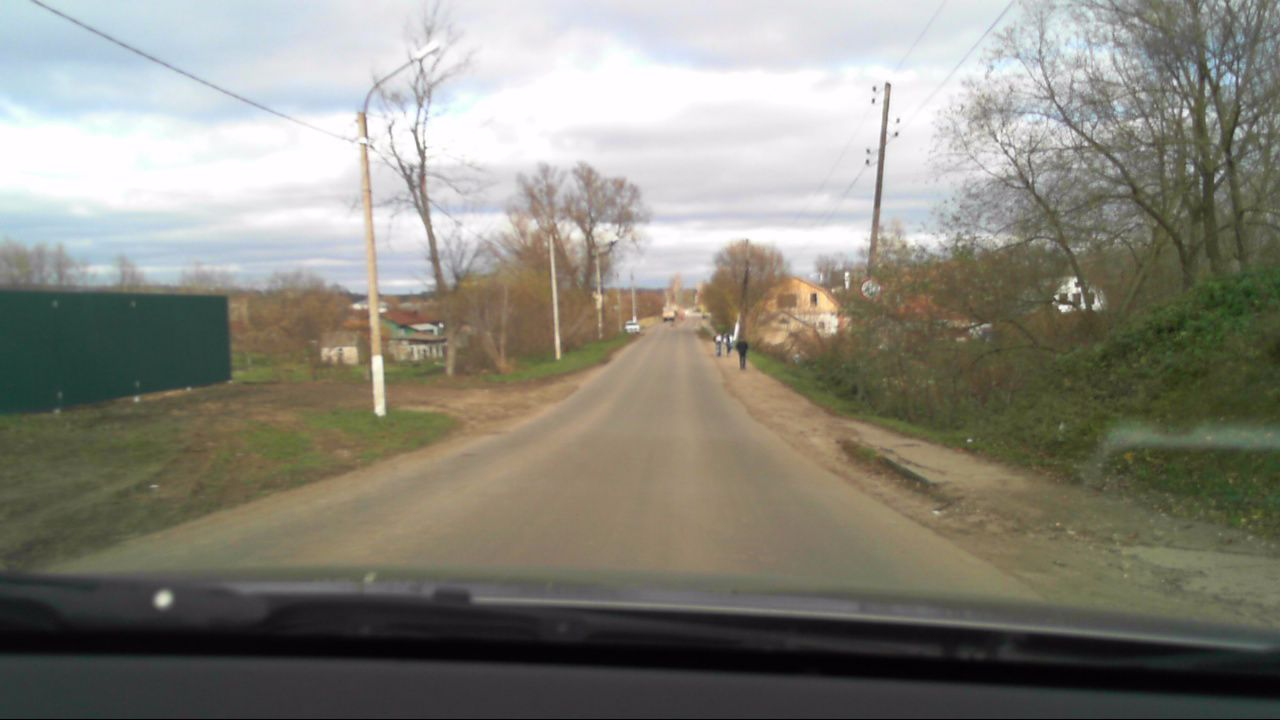speed_warning_40: (859, 276, 883, 300)
